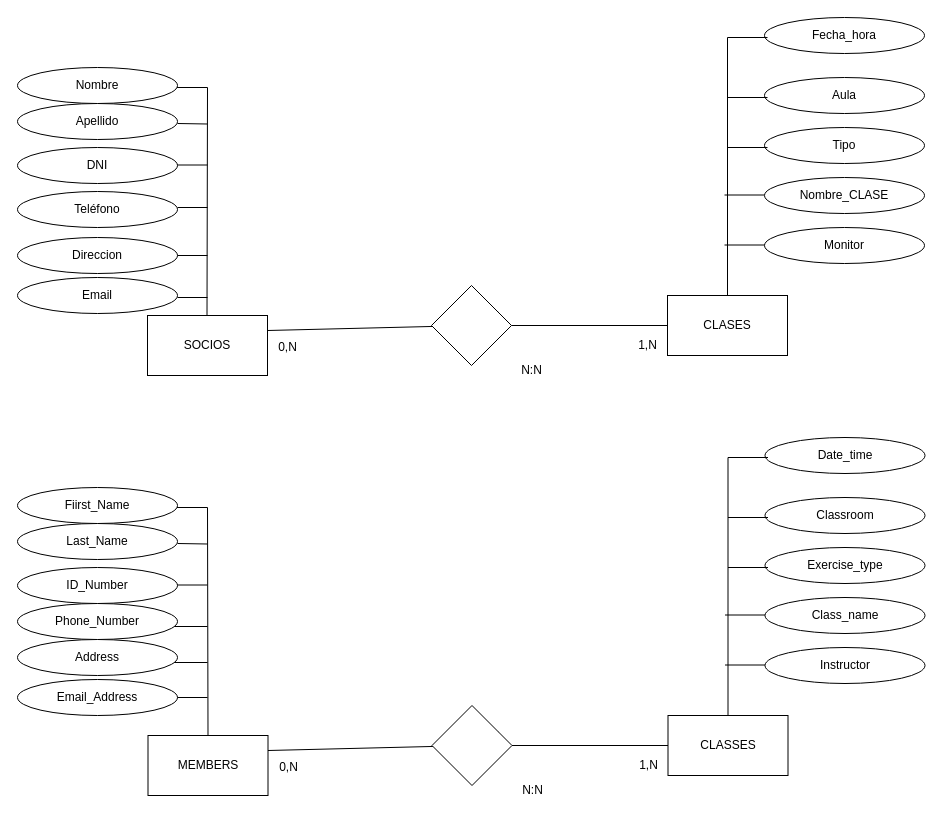
Some shapes in this 943 by 823 pixel diagram are drawn without their labels. The centre of each missing label's shape, as x and y in pixels:
"apuntan" goes at pixel 471 325.
"Reserve" goes at pixel 471 745.
